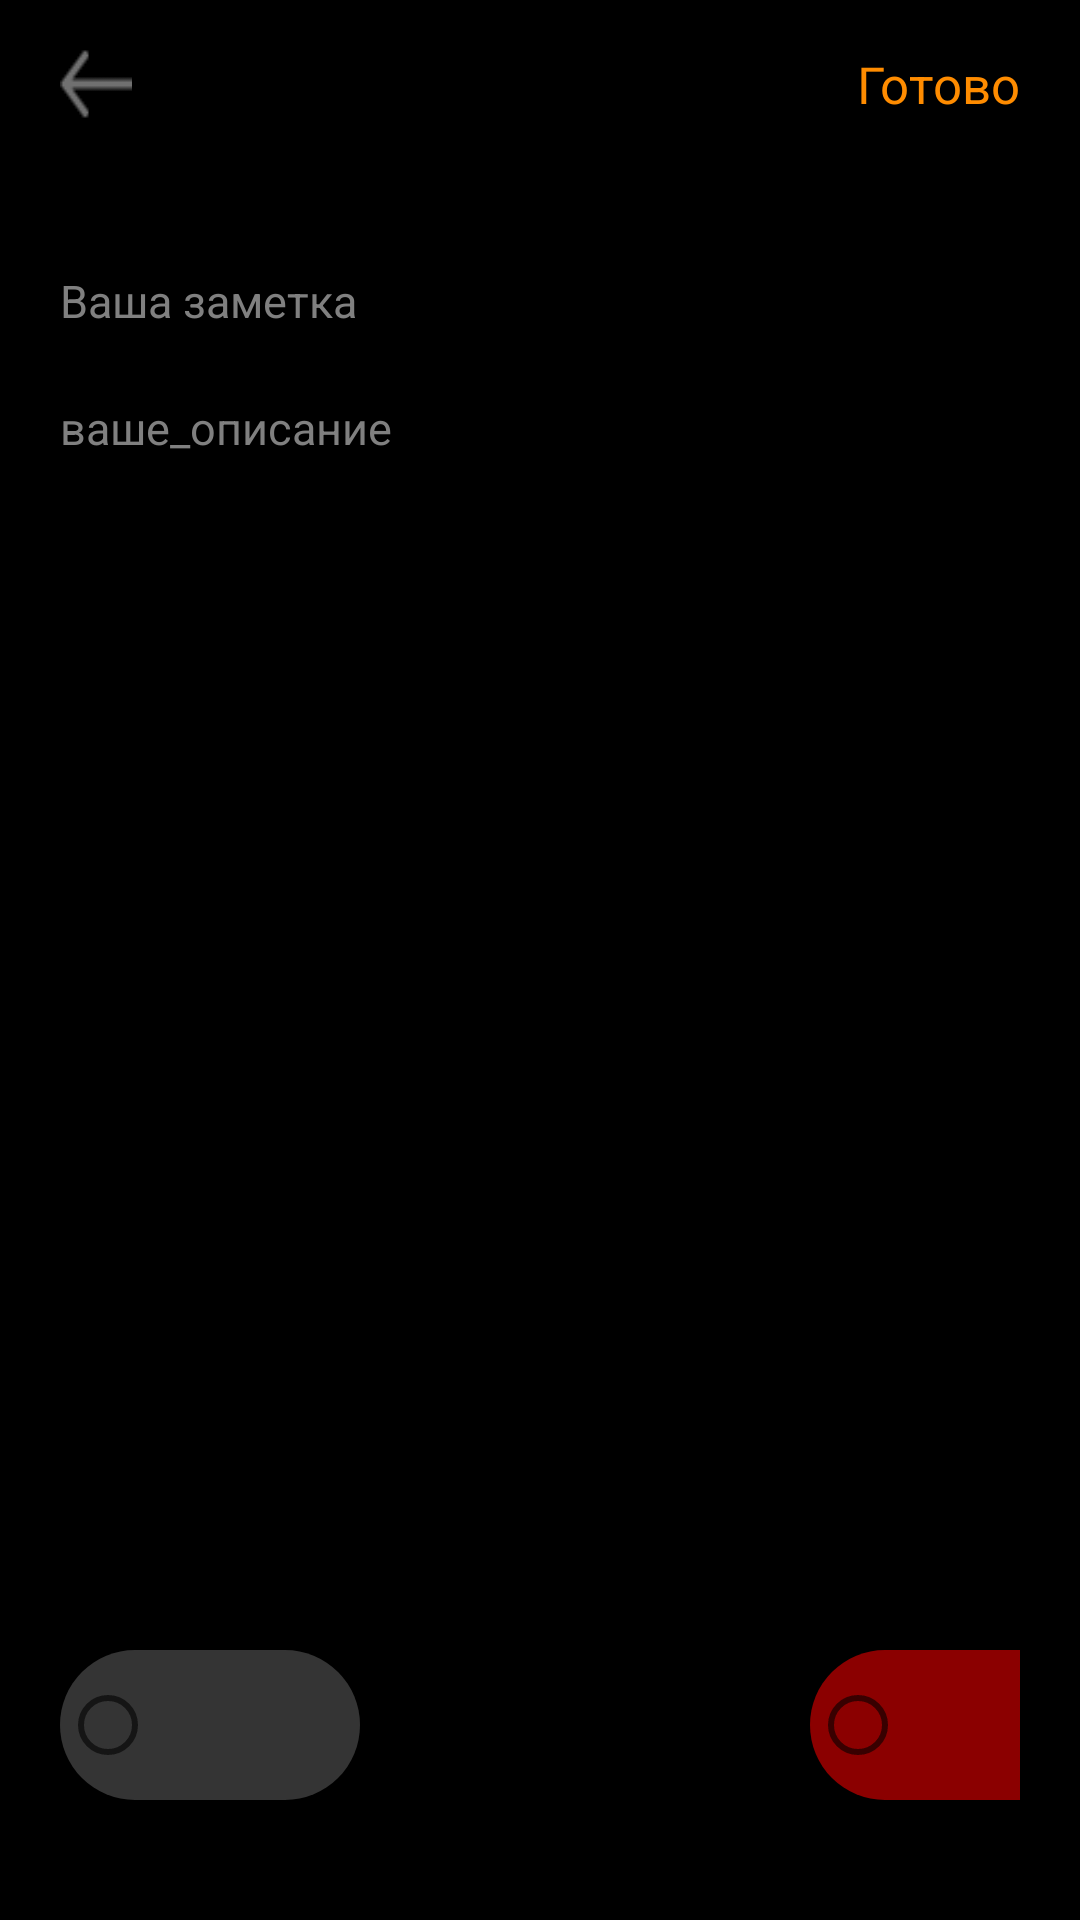

Point at icon controls on the screen. Image size 1080 × 1920, points as (x,y).
radiobtnblack: (210,1725)
